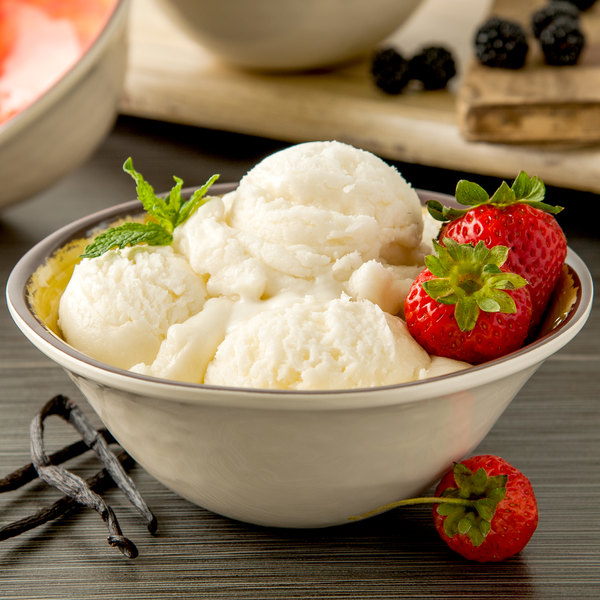ice-cream: (191, 141, 438, 296), (188, 289, 444, 397), (58, 245, 194, 368)
